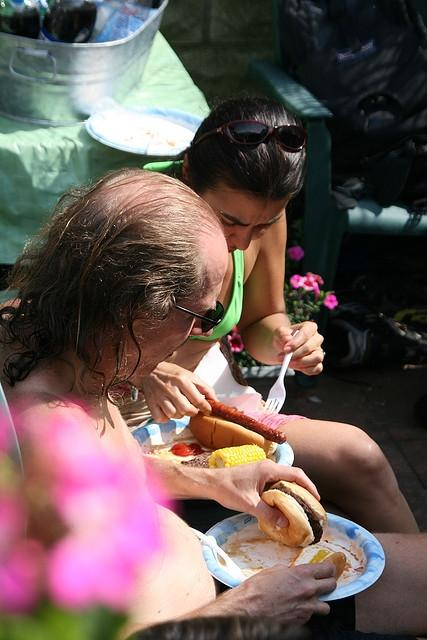corn: (208, 444, 266, 468)
